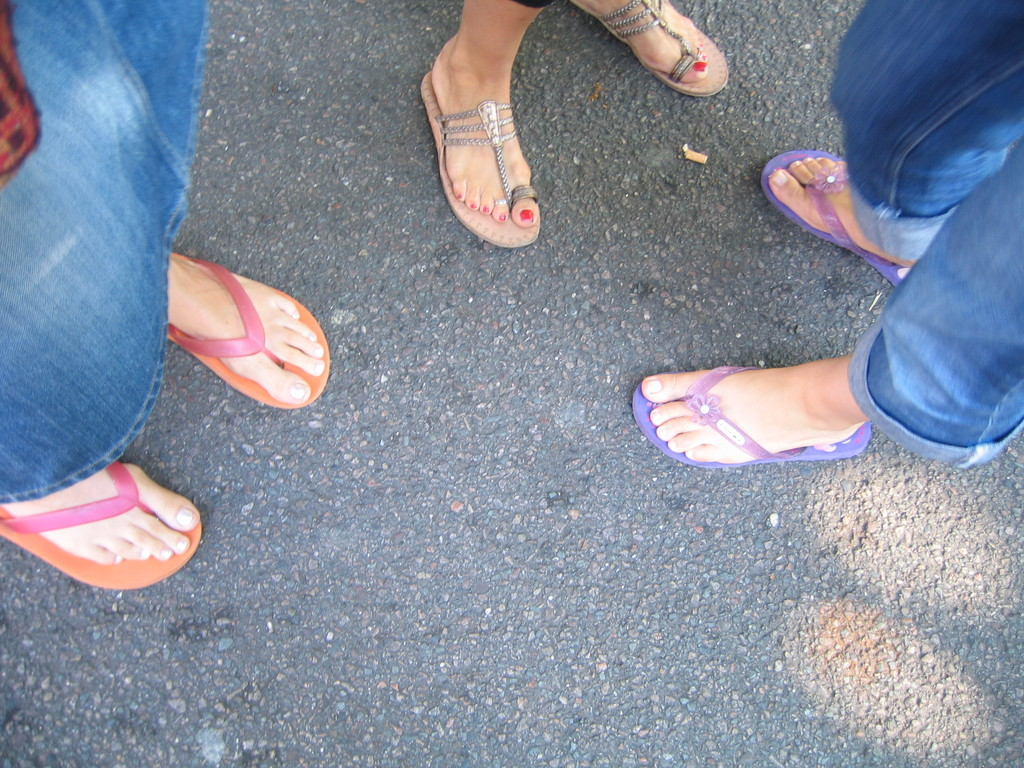Person: (0, 0, 329, 589), (632, 0, 1023, 470), (417, 0, 730, 249)
